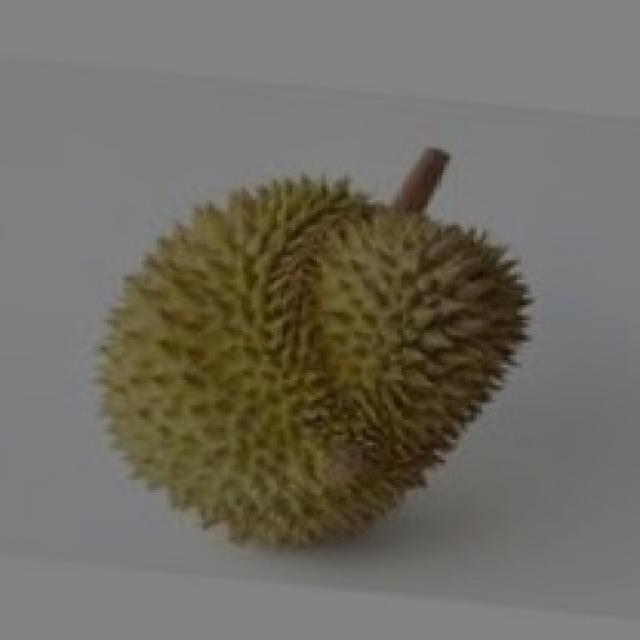fruit: (34, 175, 388, 600)
